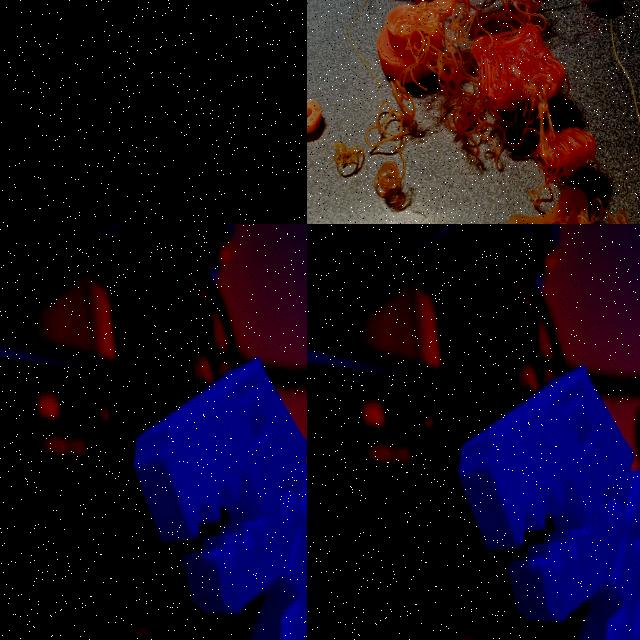spaghetti: (399, 0, 525, 189), (362, 68, 420, 152), (320, 124, 370, 182), (578, 188, 640, 224), (372, 161, 414, 205)
